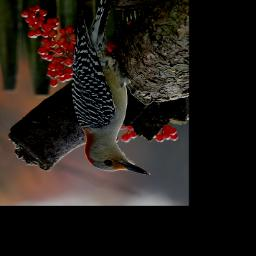Woodpecker: (72, 0, 156, 180)
